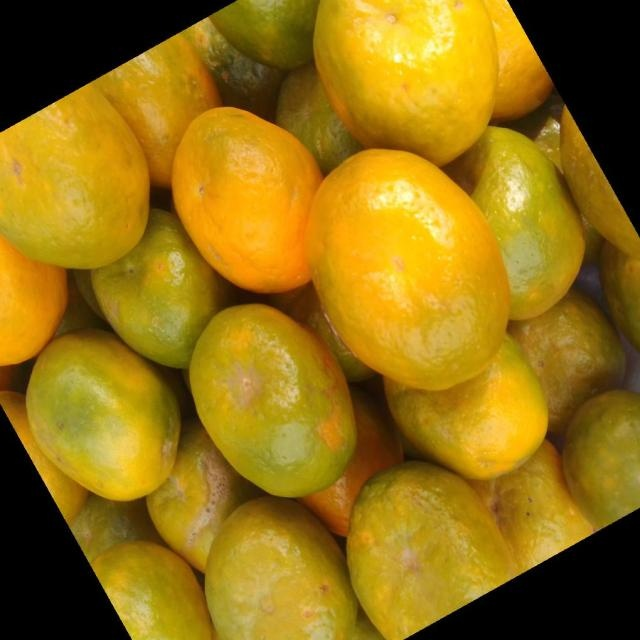agrume: (1, 1, 638, 638), (305, 146, 511, 390), (311, 440, 521, 636), (188, 305, 354, 497), (312, 0, 499, 166), (170, 104, 323, 293), (385, 332, 567, 490), (0, 82, 151, 269), (26, 333, 180, 503), (453, 126, 584, 319), (89, 210, 233, 370), (467, 420, 602, 584), (206, 498, 358, 636), (92, 34, 221, 184), (148, 425, 266, 575), (90, 543, 219, 637), (559, 103, 635, 261), (3, 392, 88, 527), (276, 63, 366, 176), (208, 1, 324, 71)
